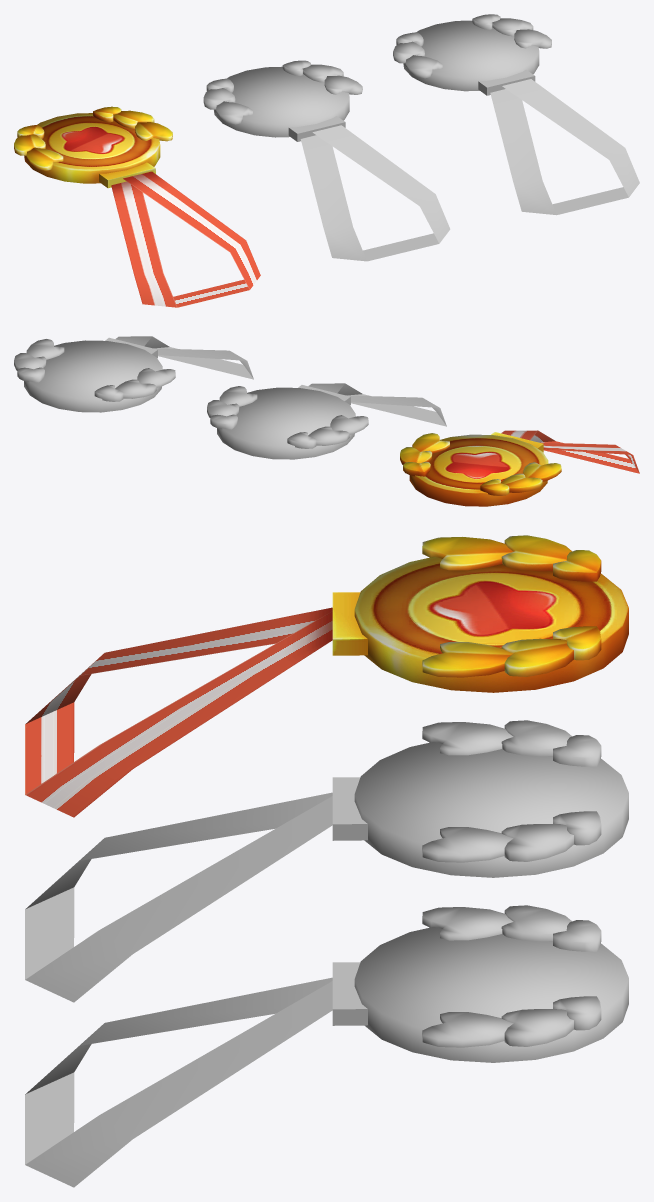
The model's file is 卡通奖牌.fbx.
3 renders of one model, top to bottom at view 1: azimuth 30°, elevation 25°; view 2: azimuth 150°, elevation 25°; view 3: azimuth 270°, elevation 25°, orthographic. The views are drawn at different scales.
Visible parts, largest first — view 1: model_0, model_2, model_1; view 2: model_0, model_1, model_2; view 3: model_2, model_0, model_1.
Part boxes in pixels (x1,y1,x2,y2): model_0: (203,60,450,261); model_2: (393,14,639,215); model_1: (14,106,260,307); model_0: (207,383,446,459); model_1: (400,430,639,506); model_2: (14,336,253,412); model_2: (25,905,628,1187); model_0: (25,720,628,1002); model_1: (25,535,628,817).
Size of the model in its own units: 181 by 26.04 by 91.86.
